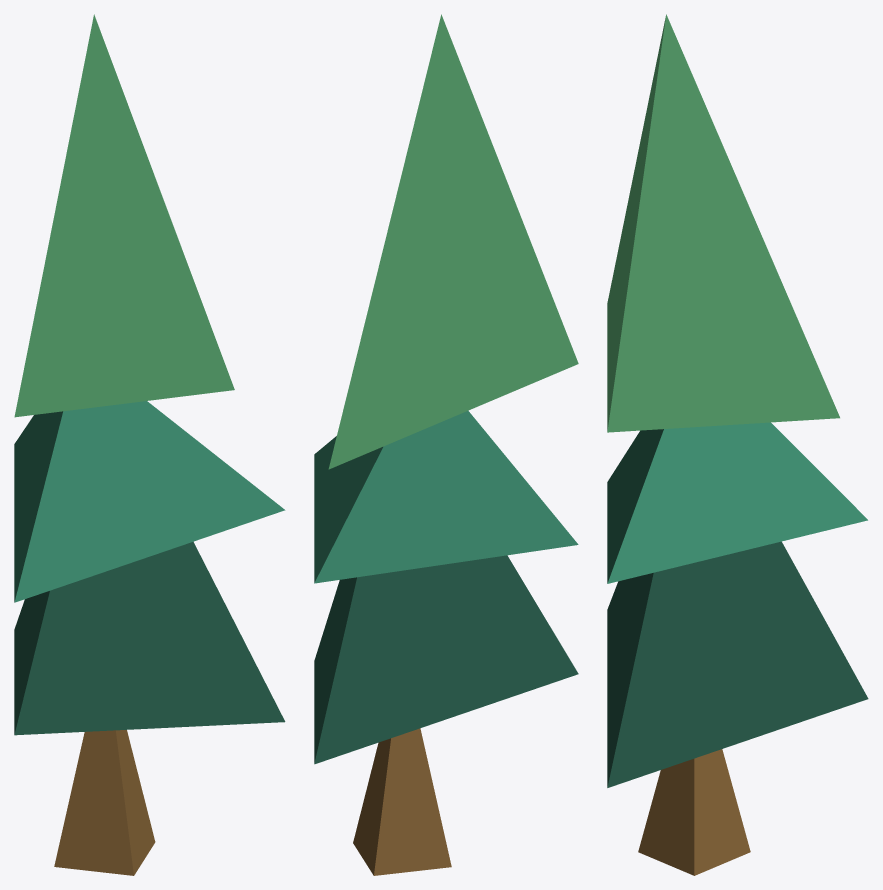
The model's file is TallPineTree.fbx.
3 views of the same model, side by side, from view 1: azimuth 30°, elevation 25°; view 2: azimuth 150°, elevation 25°; view 3: azimuth 270°, elevation 25° (orthographic). The views are drawn at different scales.
Visible parts, largest first — view 1: Upper Branch, Lower Branch, Middle Branch, Basic Trunk; view 2: Upper Branch, Lower Branch, Middle Branch, Basic Trunk; view 3: Upper Branch, Lower Branch, Middle Branch, Basic Trunk.
Boxes of the visible parts, x1,y1,x2,y2 form: Upper Branch: (14, 14, 234, 417); Lower Branch: (14, 541, 285, 735); Middle Branch: (14, 401, 285, 602); Basic Trunk: (54, 730, 155, 875); Upper Branch: (328, 14, 578, 469); Lower Branch: (314, 555, 578, 764); Middle Branch: (314, 410, 578, 583); Basic Trunk: (353, 728, 451, 875); Upper Branch: (607, 14, 839, 432); Lower Branch: (607, 541, 868, 787); Middle Branch: (607, 422, 867, 583); Basic Trunk: (638, 749, 750, 875).
Size of the model in its own units: 1071 by 3237 by 927.
